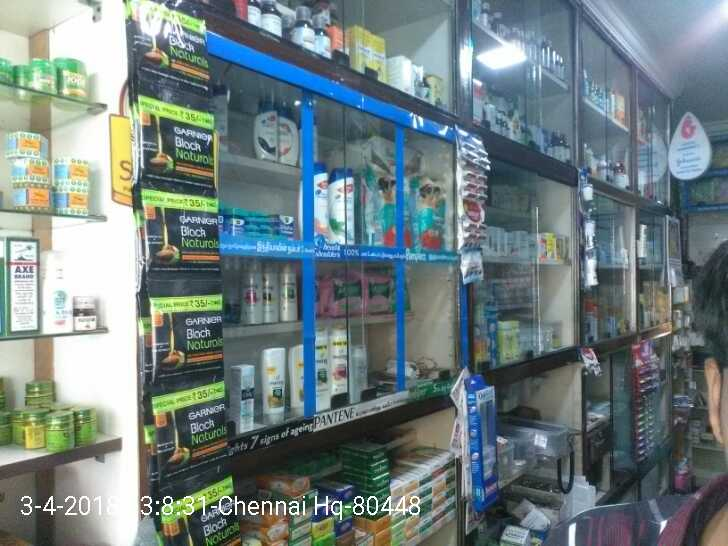vicks: (218, 203, 295, 240)
